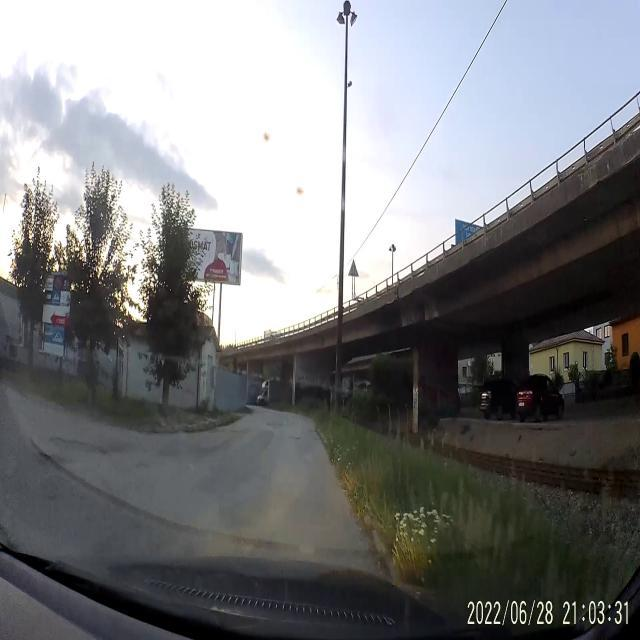Pothole: (48, 432, 108, 454)
